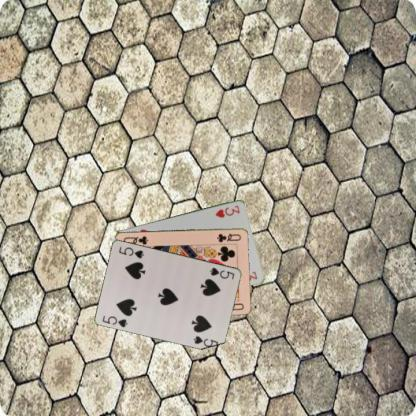3h: (213, 203, 241, 219)
5s: (207, 265, 236, 280), (100, 313, 129, 328)
Qc: (214, 231, 242, 243)
